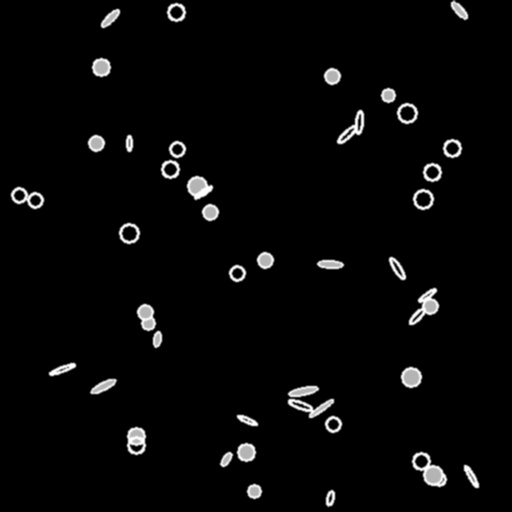pseudomonas: (308, 398, 334, 418), (90, 377, 116, 395), (336, 124, 358, 144), (388, 256, 406, 280), (100, 8, 120, 28), (48, 362, 76, 376), (463, 464, 479, 488), (287, 398, 313, 412), (288, 385, 318, 397), (450, 0, 468, 20), (408, 307, 426, 325), (193, 184, 213, 200), (417, 287, 437, 303), (236, 413, 258, 427), (219, 451, 233, 467), (317, 260, 343, 268), (355, 111, 363, 133), (325, 490, 335, 506), (153, 331, 161, 347), (126, 136, 132, 151)
synechocystis: (402, 368, 420, 386), (188, 177, 206, 195), (120, 224, 138, 242), (414, 190, 432, 208), (398, 104, 416, 122), (424, 466, 442, 484), (93, 59, 109, 75), (413, 453, 429, 469), (238, 444, 254, 460), (168, 4, 184, 20), (424, 164, 440, 180), (128, 428, 144, 444), (444, 140, 460, 156), (162, 161, 178, 177), (128, 437, 144, 453), (12, 188, 26, 202), (28, 193, 42, 207), (258, 253, 272, 267), (203, 205, 217, 219), (138, 305, 152, 319), (325, 69, 339, 83), (326, 417, 340, 431), (170, 142, 184, 156), (89, 136, 103, 150), (423, 299, 437, 313), (230, 266, 244, 280), (142, 317, 154, 329), (433, 473, 445, 485), (248, 485, 260, 497), (382, 89, 394, 101)
